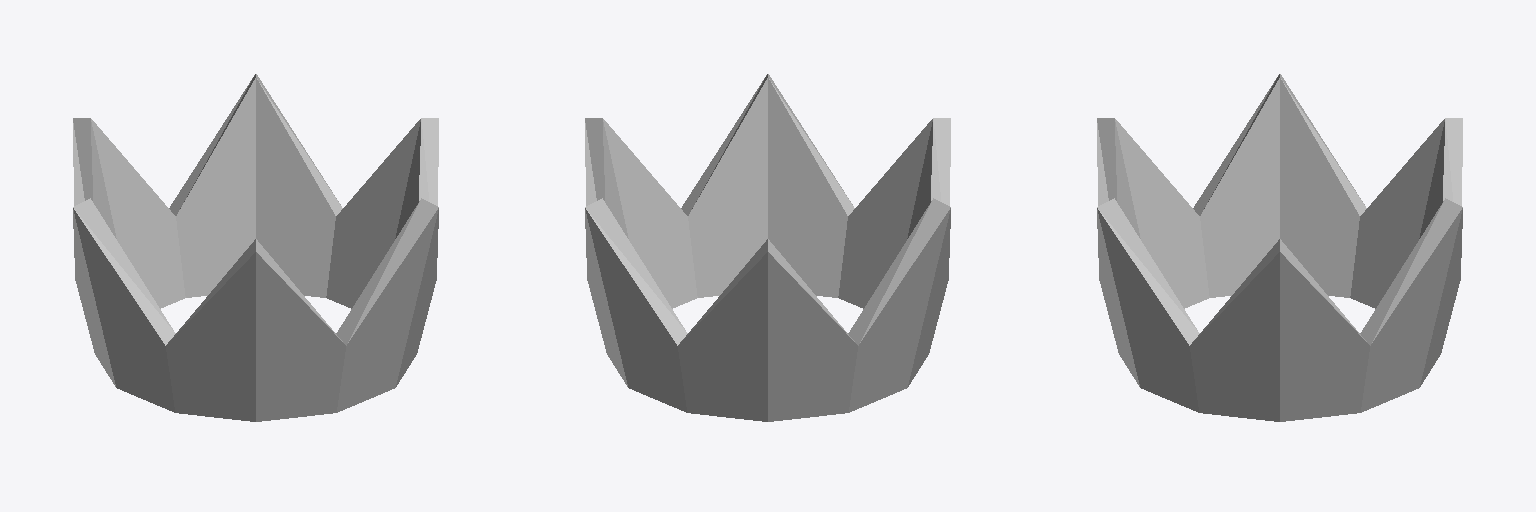
Rendered from corona.obj.
The picture shows the model from 3 angles: view 1: azimuth 30°, elevation 25°; view 2: azimuth 150°, elevation 25°; view 3: azimuth 270°, elevation 25°; orthographic projection.
Visible parts, largest first — view 1: Cylinder; view 2: Cylinder; view 3: Cylinder.
Part boxes in pixels (left/top/right/bottom): Cylinder: left=73, top=74, right=438, bottom=421; Cylinder: left=585, top=74, right=950, bottom=421; Cylinder: left=1097, top=74, right=1462, bottom=421.
Bounding box in the file's own units: 0.2 × 0.1023 × 0.1732.